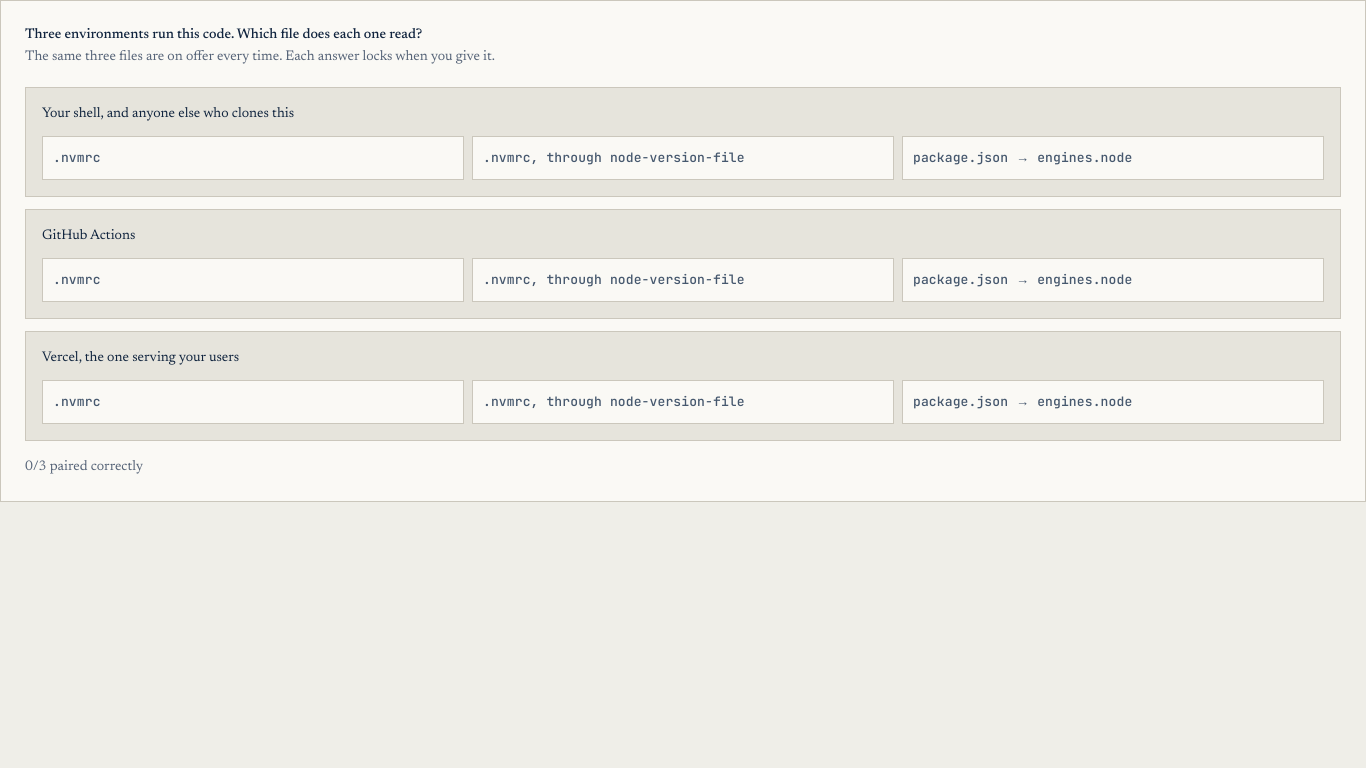
locks a pairing once it is made, since changing an answer after the verdict scores hindsight
Click the 1st radio button labelled "package.json → engines.node".
click(1113, 158)  # box left=902, top=136, right=1324, bottom=180
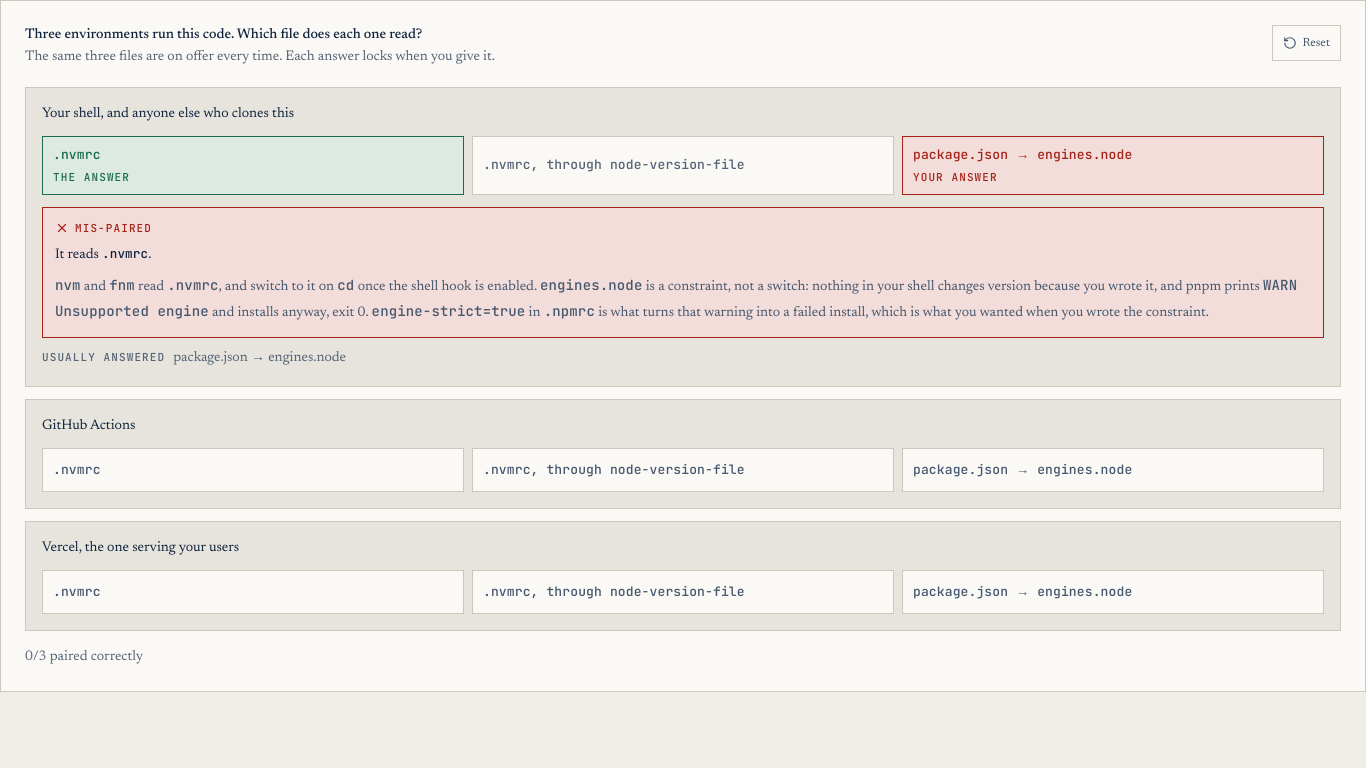
Expected: the radio button labelled ".nvmrc" is disabled, left=42, top=136, right=464, bottom=194
